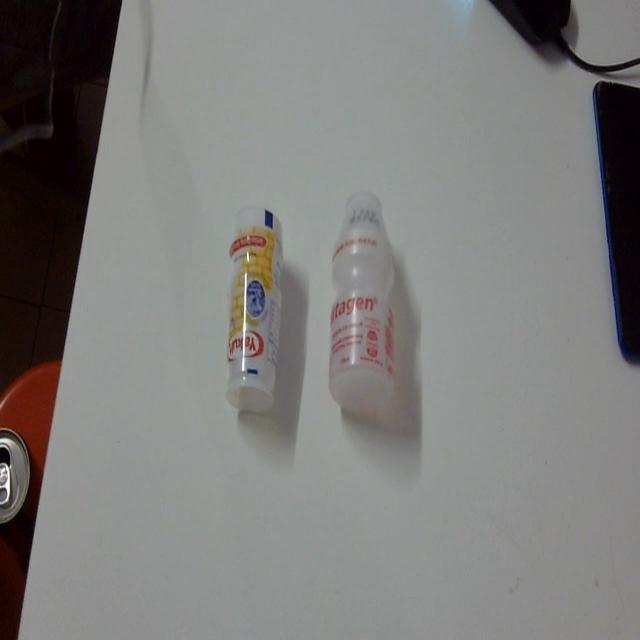plastic_laydown_90rotation: (323, 175, 403, 421), (221, 197, 295, 416)
